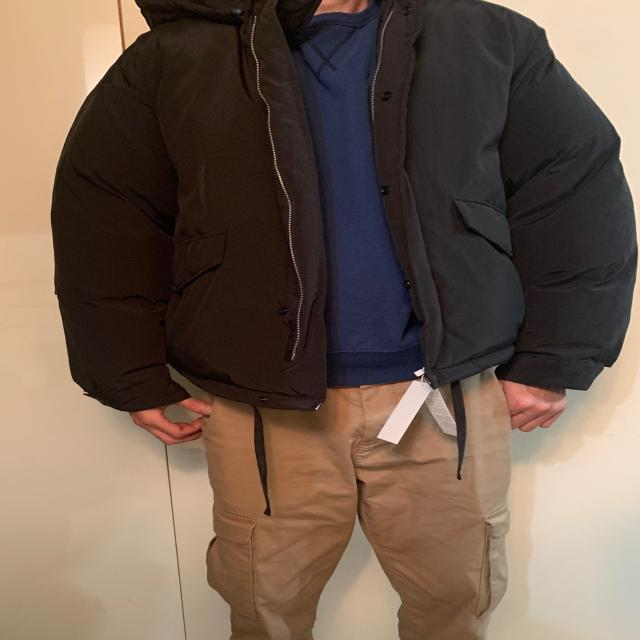cottonpants: (189, 370, 514, 640)
padding: (52, 0, 640, 406)
